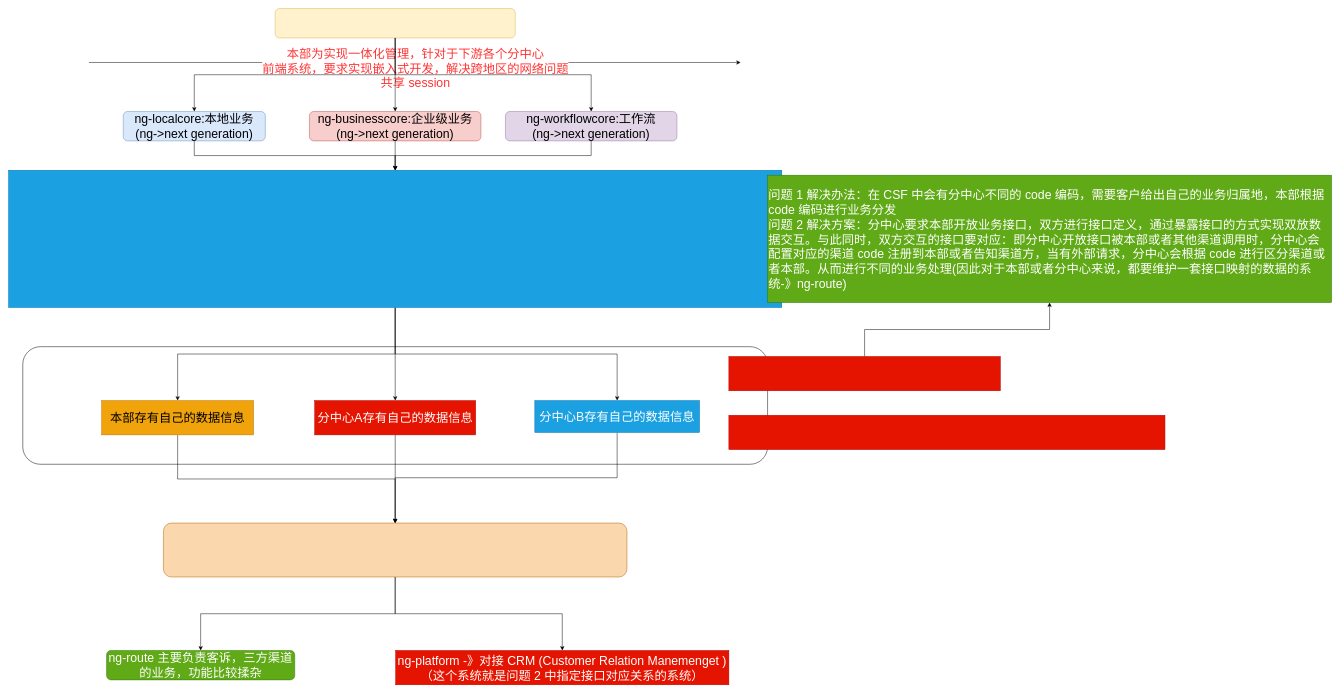
This 1340x693 diagram has some shape labels left out. The shapes that lost their labels are listed below. From the top down, each one's centre as x and y in pixels, then its label:
(x=395, y=23): Web(本部部署的一套前端系统)
(x=395, y=238): CSF(Customer Service Framwork): 客户服务框架，本部部署，各分部的所有路由信息都要注册到这个系统中-》类似于 ZK 的分布式管理
(x=864, y=373): 问题 1：那么系统是如何知道不存在于本部的数据是到分中心A查找还是到分中心B查找
(x=946, y=432): 问题 2：本部数据与分中心的数据如何打通，本部与分中心服务可能不仅仅是跨机房，可能是跨市跨省
(x=395, y=550): ng-route(工单处理系统)：因为某系原因：从工单系统中拆分出一套 ng-platform 系统
